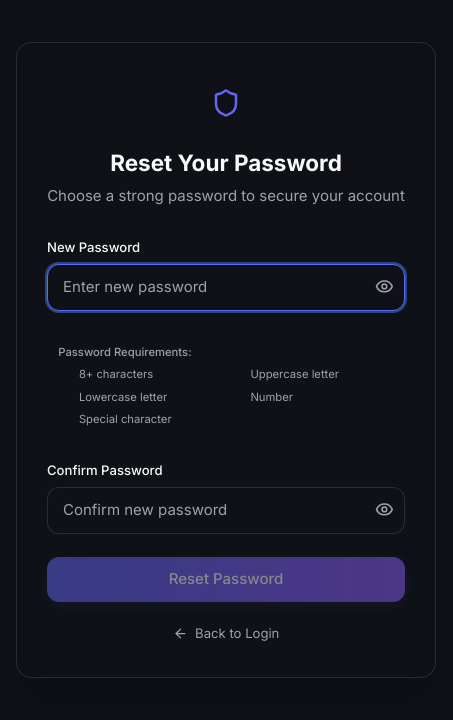
Test case: ResetPasswordPage › handles API error
This screenshot has width=453, height=720.
Type "StrongPass123!" into the password field labelled "New Password" at point(226, 287), box x1=47 y1=264 x2=405 y2=311
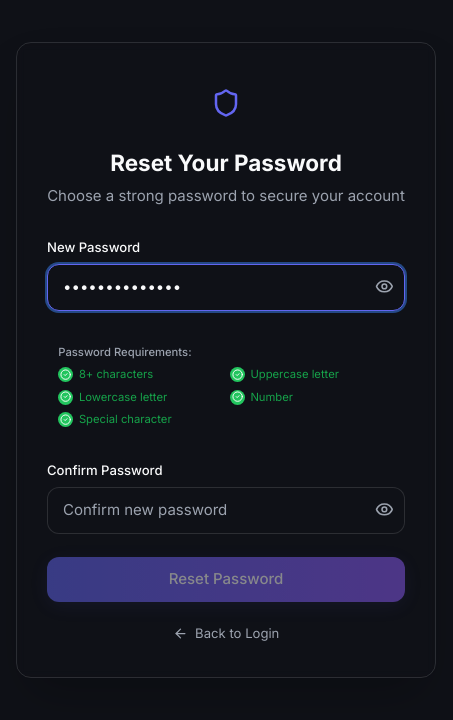
Type "StrongPass123!" into the password field labelled "Confirm Password" at point(226, 511), box x1=47 y1=487 x2=405 y2=534
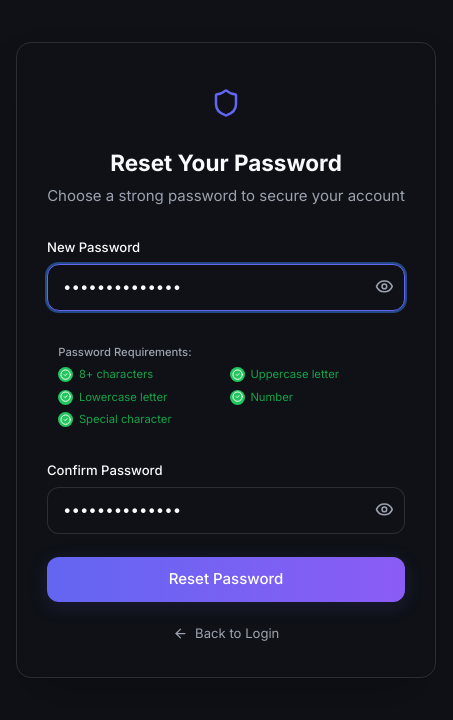
Click the button "Reset Password" at point(226, 579), box x1=47 y1=557 x2=405 y2=602
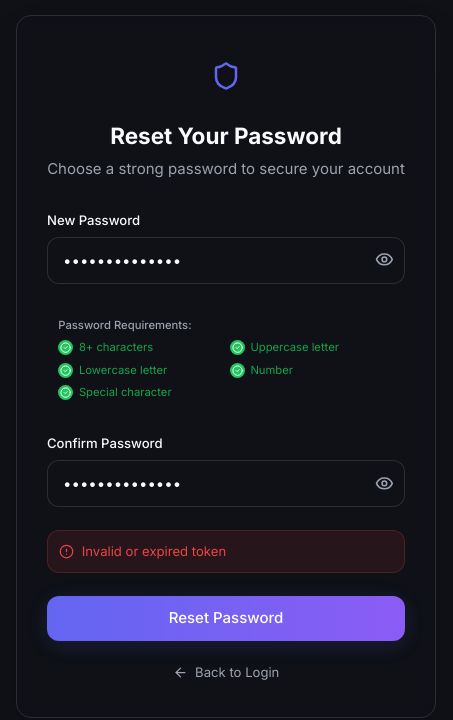
Check: the text "Invalid or expired token" is shown, box x1=59 y1=543 x2=226 y2=559
